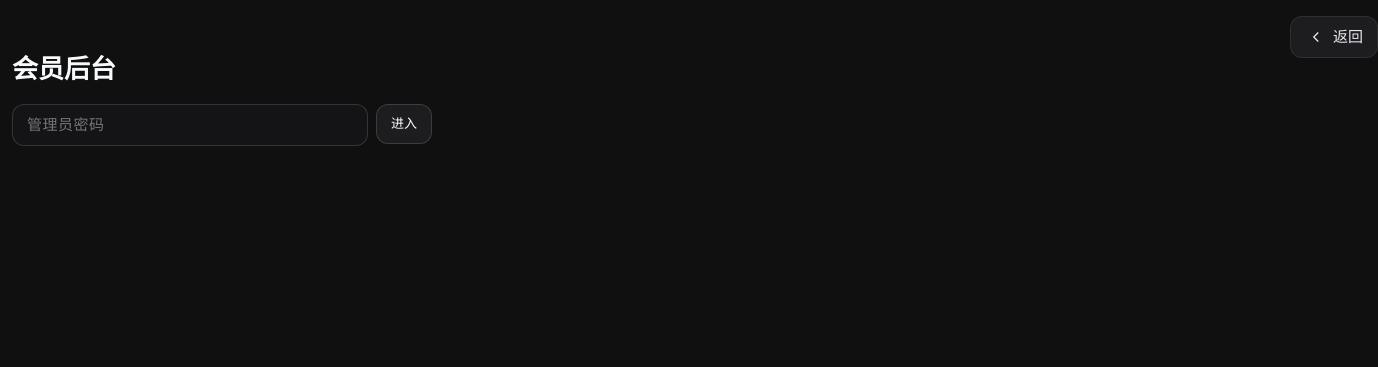
Test case: 会员后台：真实交互 › 提交口令：sessionStorage.tjAdmin 写入去空格后的口令，GET /admin/users 与 /admin/stats 带 X-Admin-Key，无 Bearer 也不登出
This screenshot has width=1378, height=367.
Type "  pw  " into the password field with placeholder "管理员密码" at (190, 125), box top-left (12, 104), bottom-right (368, 146)
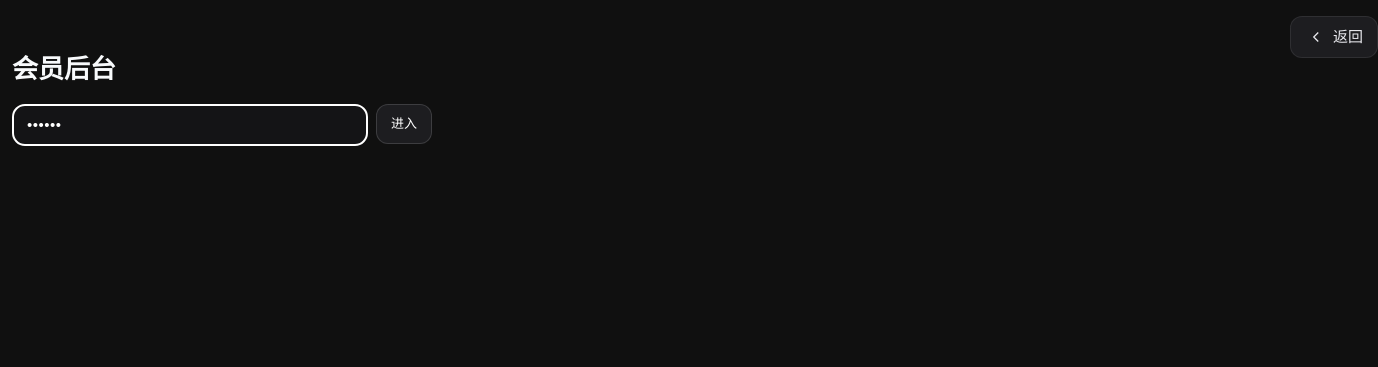
Click the button "进入" at (404, 124), box top-left (376, 104), bottom-right (432, 144)
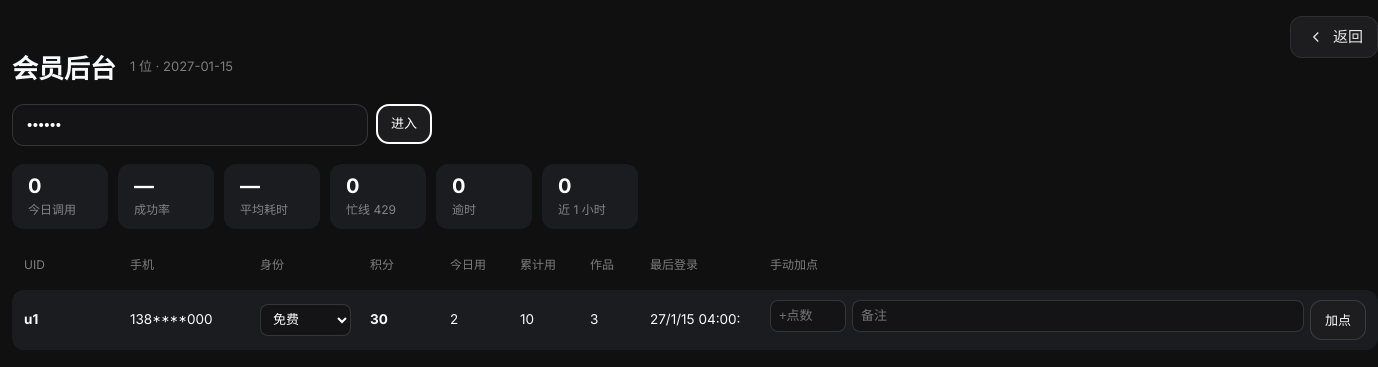
expect the text "1 位 · 2027-01-15" is shown: met, box top-left (130, 56), bottom-right (233, 77)
